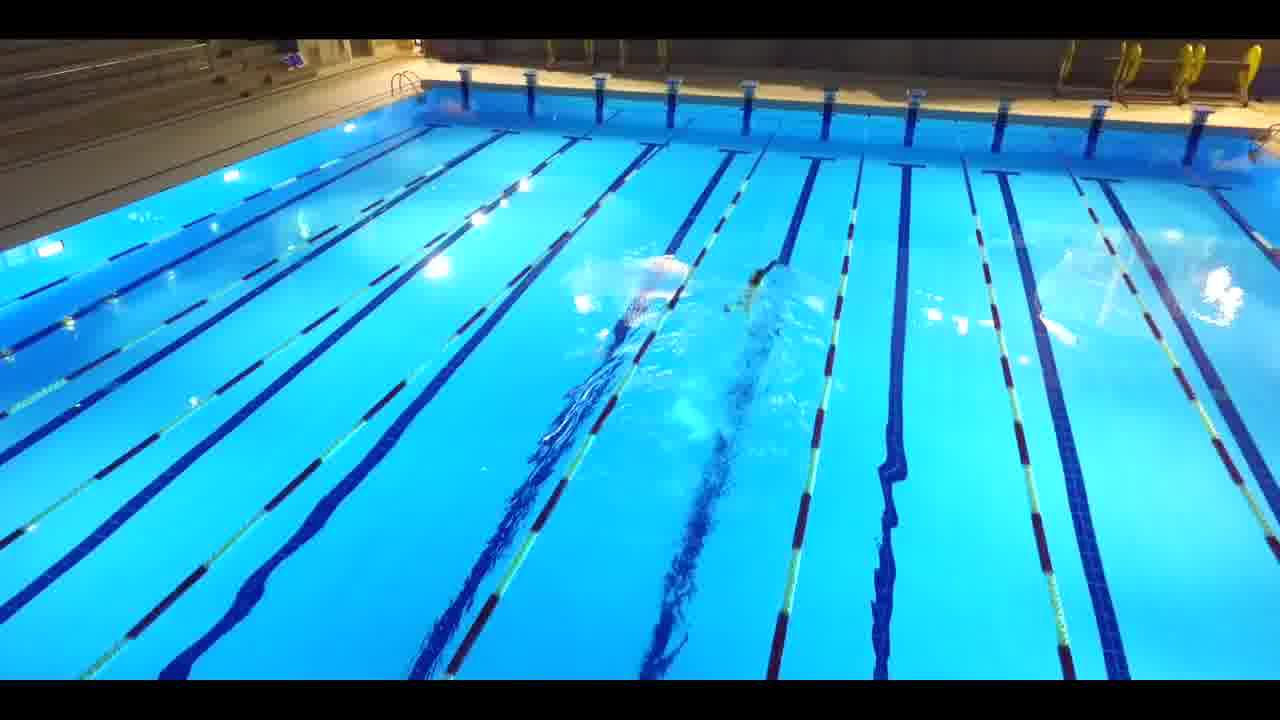human: (733, 256, 777, 331)
